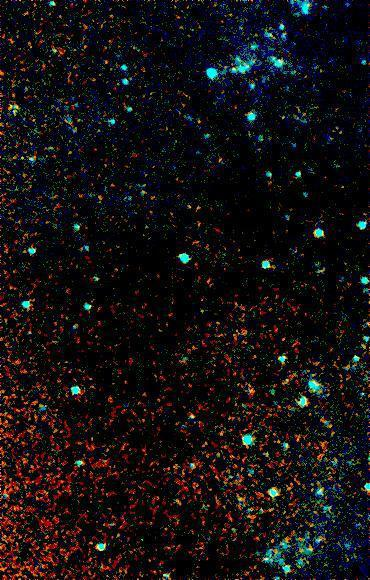star: (194, 266, 224, 296)
